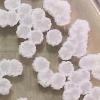white: (66, 39, 89, 58), (68, 19, 90, 38), (35, 68, 52, 89), (19, 40, 37, 59), (8, 58, 24, 79), (50, 71, 65, 93), (24, 27, 42, 45), (56, 59, 73, 78), (50, 1, 72, 15), (46, 30, 63, 47), (74, 78, 91, 95), (34, 17, 53, 32), (58, 43, 73, 62), (0, 76, 12, 98), (15, 0, 31, 16), (33, 56, 49, 72), (14, 23, 31, 38), (5, 9, 18, 28), (84, 85, 100, 100), (30, 7, 44, 24), (42, 0, 60, 13), (53, 13, 71, 26), (78, 55, 92, 70), (0, 58, 10, 78), (92, 55, 100, 80), (18, 14, 33, 27), (63, 88, 79, 100), (0, 8, 8, 30), (3, 0, 20, 10), (79, 69, 92, 82), (69, 70, 81, 84), (65, 80, 76, 92), (16, 97, 30, 100)
